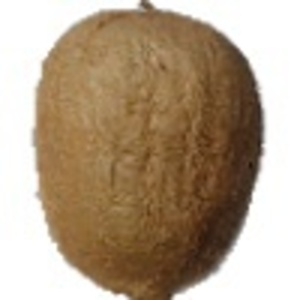kiwi: (31, 1, 266, 300)
